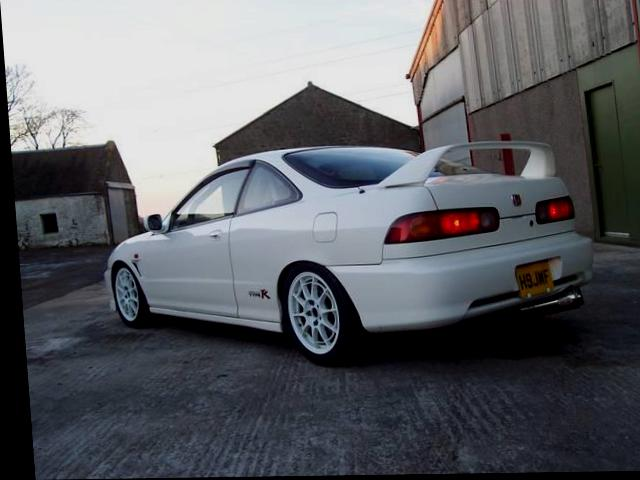License_Plate: (510, 254, 565, 306)
